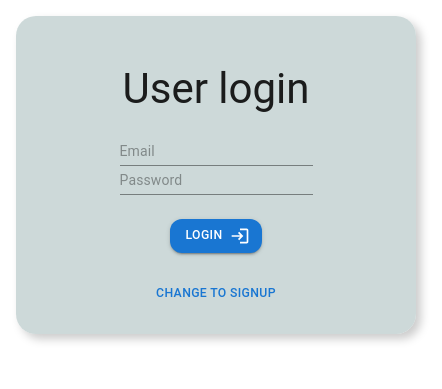
Test: render signup page
Click the button "change to Signup". click: coordinates (216, 293)
box: [148,277,284,310]
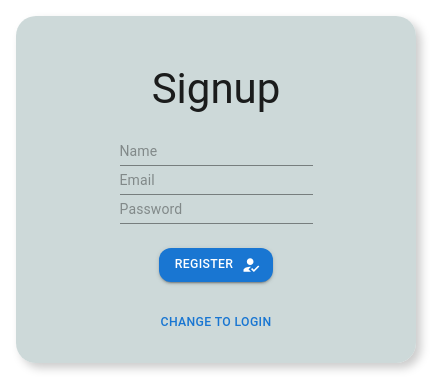
Result: the field with placeholder "Name" is shown at [120,137,312,166]
Result: the heading "Signup" is shown at [152,64,280,113]
Result: the button "change to Login" is shown at [152,306,279,339]
